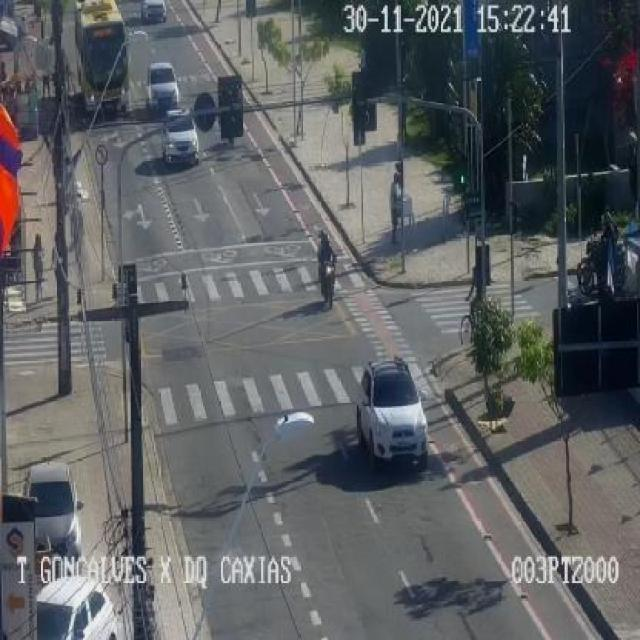Bus: (76, 0, 131, 119)
Car: (352, 360, 430, 469), (23, 463, 83, 560), (34, 578, 121, 640), (160, 105, 200, 166), (146, 62, 180, 112), (141, 0, 167, 24)
Cycle: (576, 240, 626, 294), (316, 253, 339, 308)
